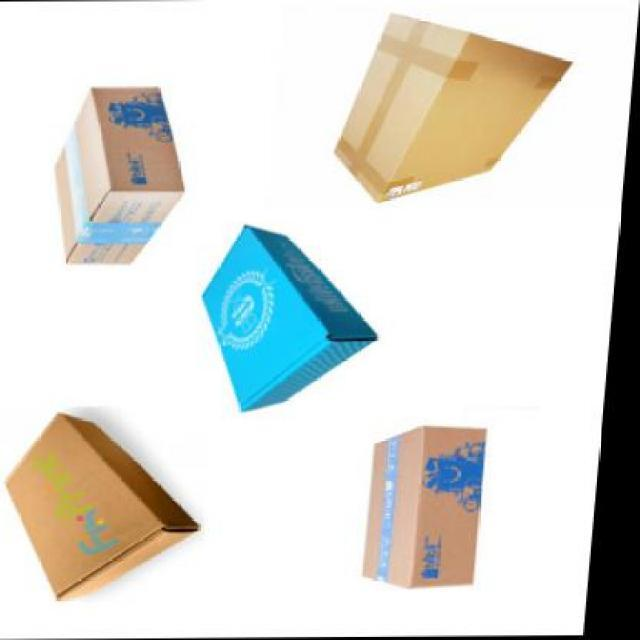box: (332, 13, 573, 202), (4, 412, 218, 600), (198, 223, 392, 412), (49, 86, 194, 262), (370, 426, 492, 590)
